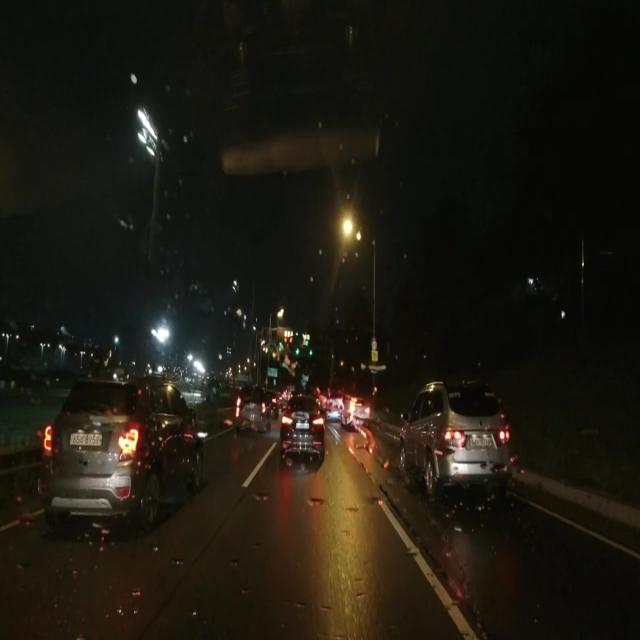Car: (38, 372, 201, 537), (400, 370, 507, 505), (281, 395, 320, 463), (233, 384, 271, 434)
